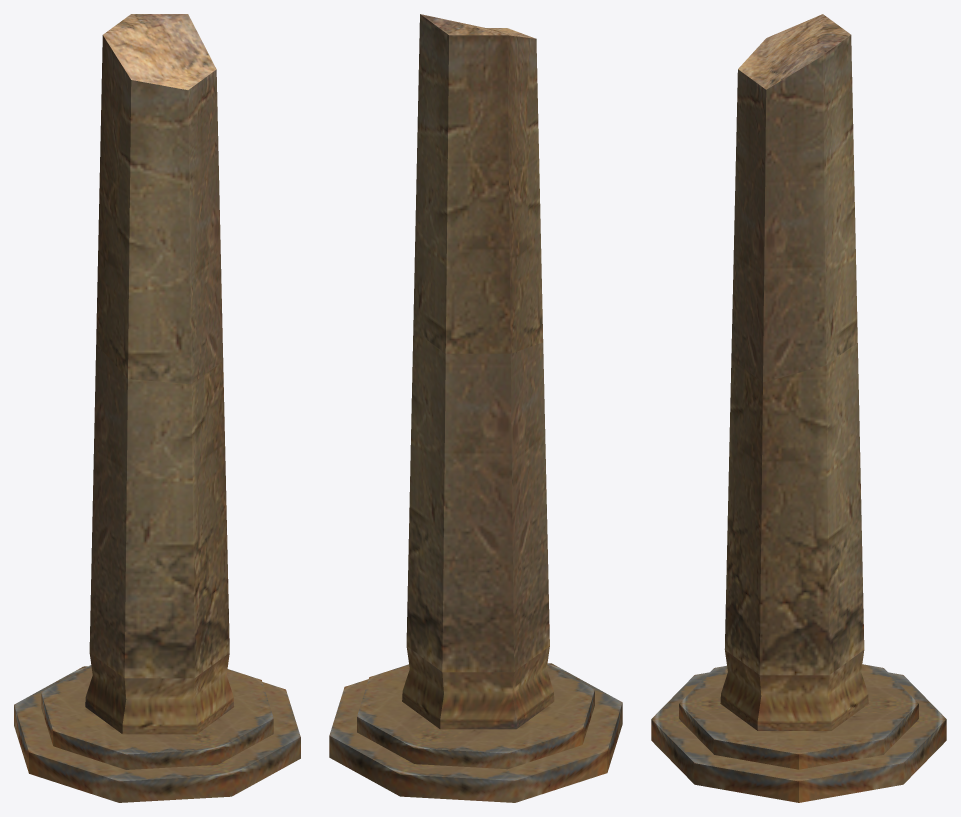
The model's file is yw_huxiaoshamo_zhuzi01.FBX.
3 renders of one model, left to right at view 1: azimuth 30°, elevation 25°; view 2: azimuth 150°, elevation 25°; view 3: azimuth 270°, elevation 25°, orthographic. The views are drawn at different scales.
Parts seen in each view (by area): view 1: yw_huxiaoshamo_zhuzi01; view 2: yw_huxiaoshamo_zhuzi01; view 3: yw_huxiaoshamo_zhuzi01.
Part boxes in pixels (<box>): yw_huxiaoshamo_zhuzi01: <box>14,14,300,802</box>; yw_huxiaoshamo_zhuzi01: <box>329,14,622,802</box>; yw_huxiaoshamo_zhuzi01: <box>651,14,946,802</box>.
Bounding box in the file's own units: 191 × 504 × 191.
